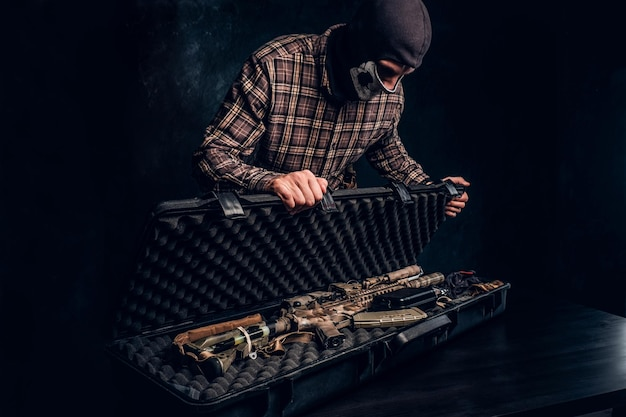gun: (172, 259, 444, 378)
